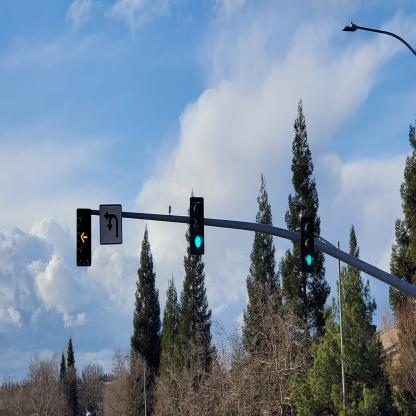green: (191, 198, 204, 254), (301, 217, 314, 273)
left-yellow: (78, 209, 92, 264)
